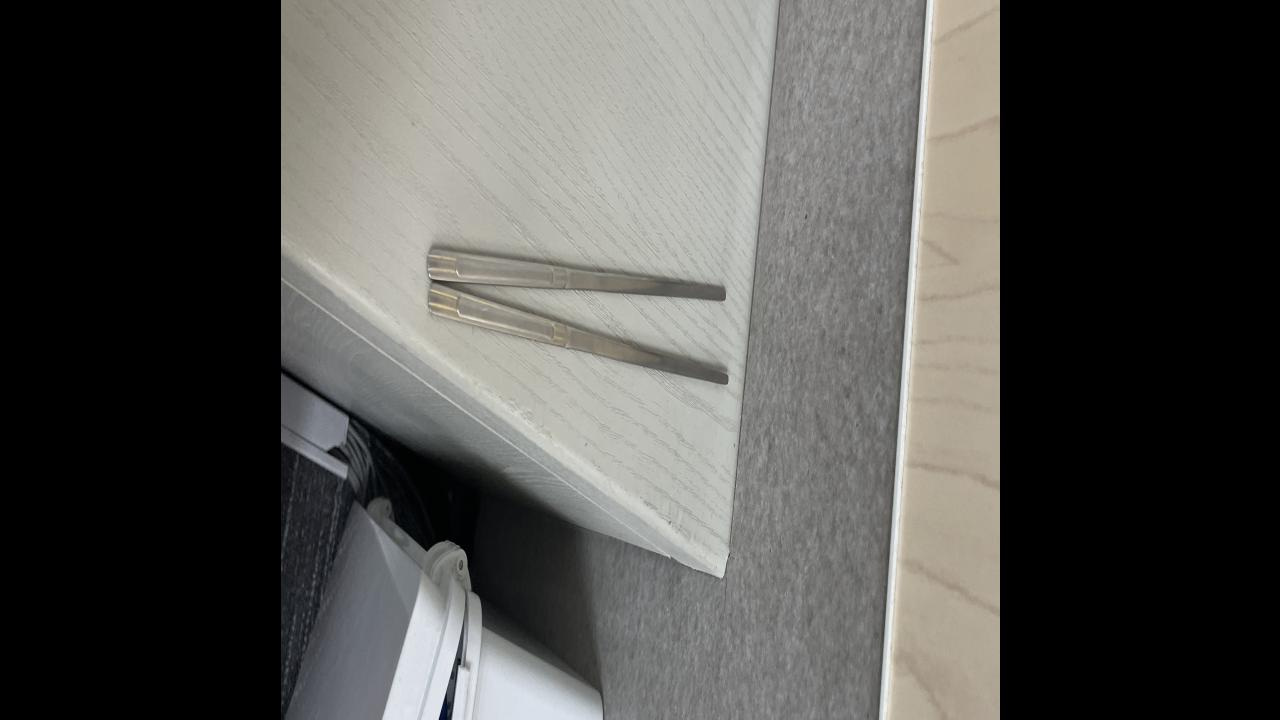chopstick: (424, 243, 726, 388)
